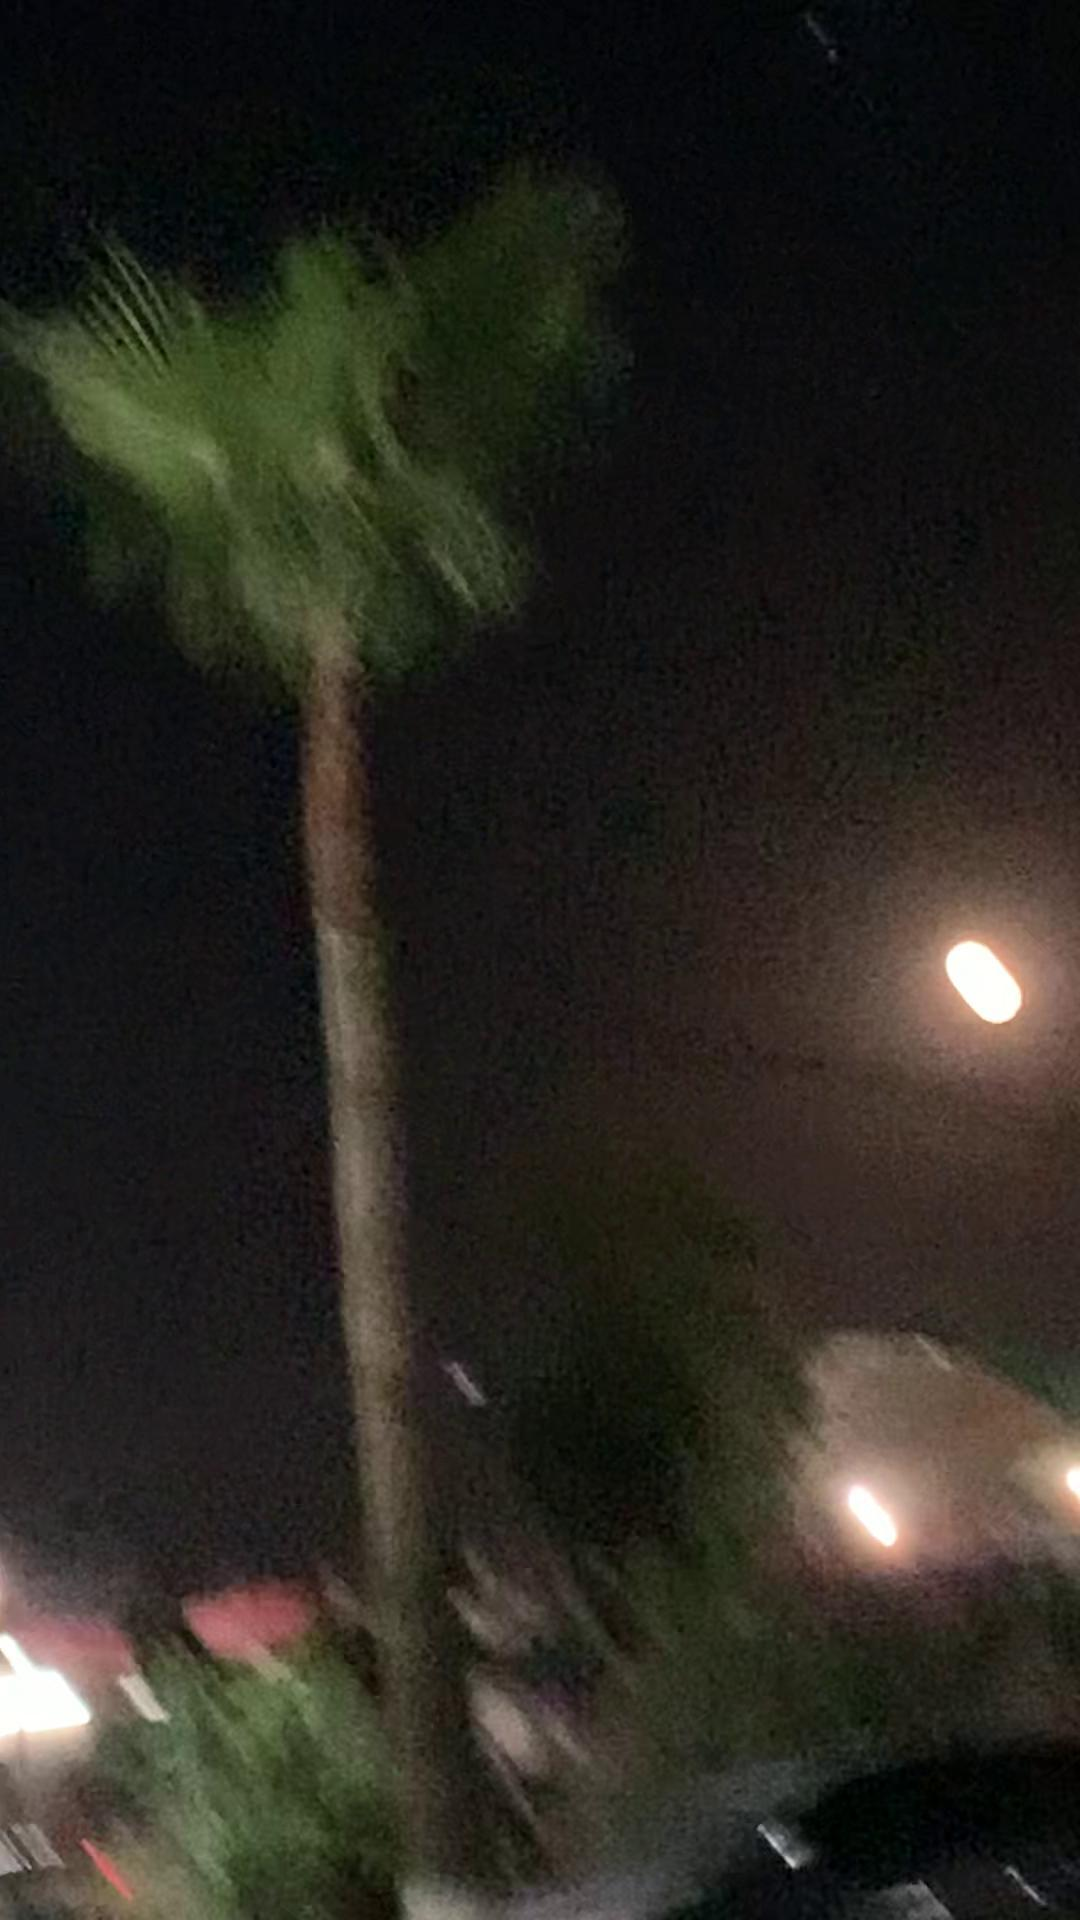moon: (938, 944, 1035, 1026)
